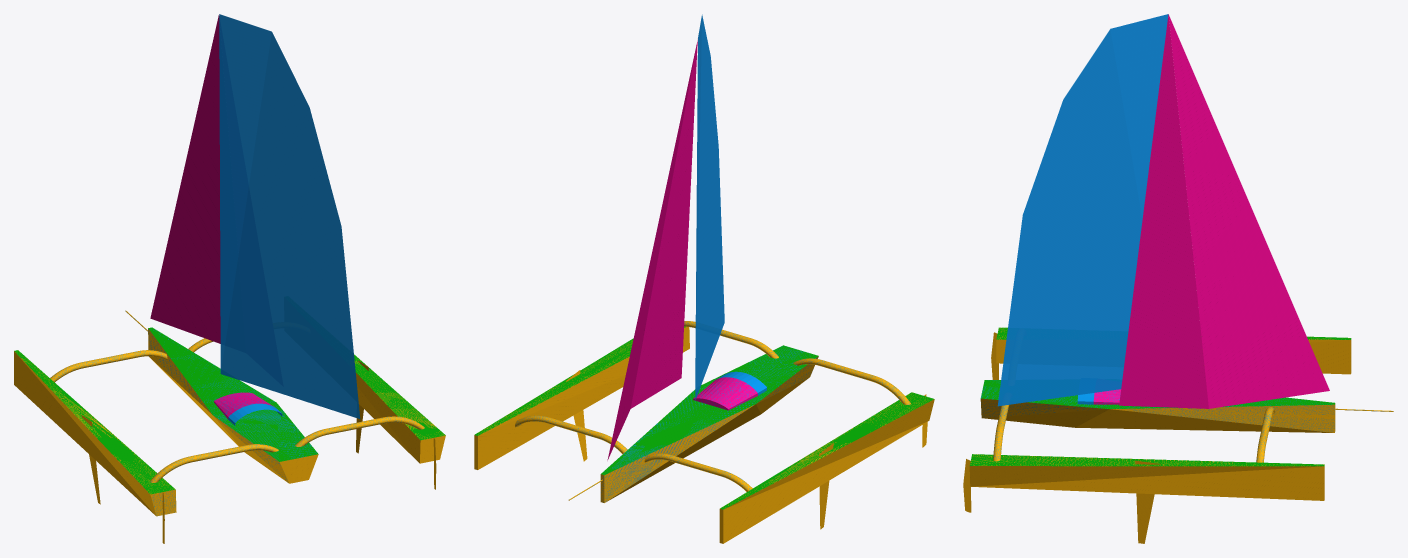
File: TRIMARAN_GENNAKER_BABORD.dae
3 renders of one model, left to right at view 1: azimuth 30°, elevation 25°; view 2: azimuth 150°, elevation 25°; view 3: azimuth 270°, elevation 25°, orthographic.
Parts seen in each view (by area): view 1: SketchUp (×14); view 2: SketchUp (×14); view 3: SketchUp (×11).
Part boxes in pixels (x1=…): SketchUp (×14): x1=14, y1=14, x2=445, y2=516; SketchUp (×14): x1=474, y1=14, x2=934, y2=543; SketchUp (×11): x1=969, y1=14, x2=1351, y2=543.
Bounding box in the file's own units: 90746 × 111674 × 133928.
